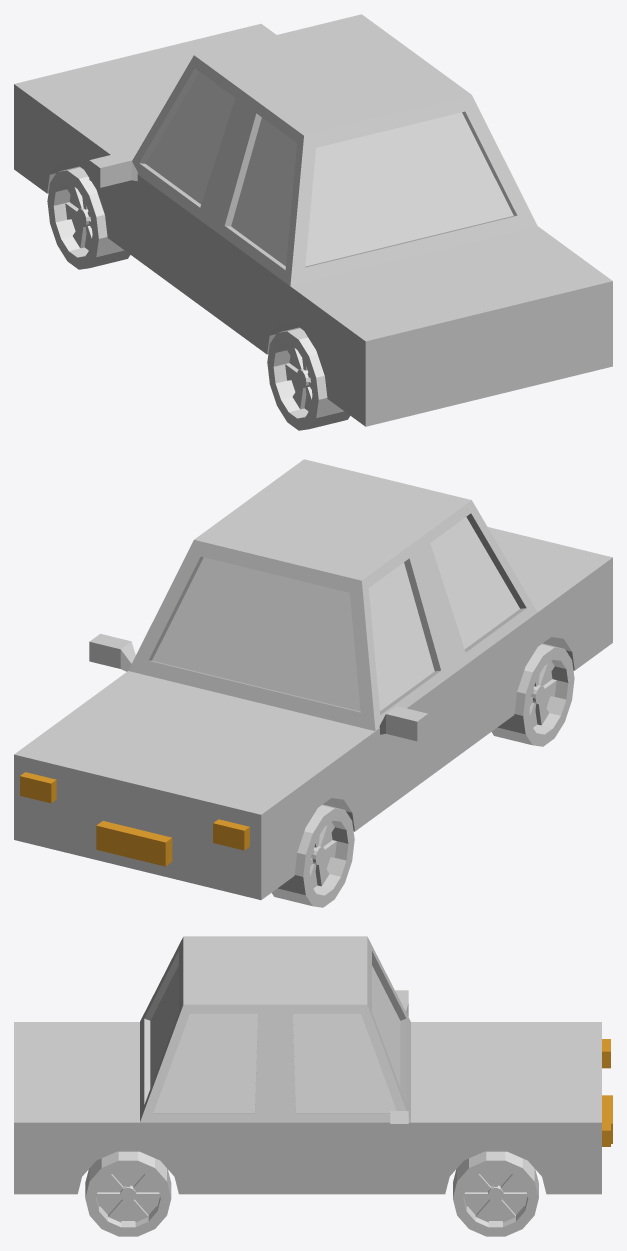
Rendered from lego_car.fbx.
The picture shows the model from 3 angles, top to bottom: view 1: azimuth 30°, elevation 25°; view 2: azimuth 150°, elevation 25°; view 3: azimuth 270°, elevation 25°; orthographic projection. The views are drawn at different scales.
Parts seen in each view (by area): view 1: Gova, bottom_left, top_left; view 2: Gova, top_left, bottom_left; view 3: Gova, bottom_right, top_right.
Part boxes in pixels (x1,y1,x2,y2): Gova: [14, 14, 612, 426]; bottom_left: [267, 327, 350, 430]; top_left: [47, 166, 130, 269]; Gova: [14, 459, 612, 899]; top_left: [272, 804, 354, 907]; bottom_left: [491, 643, 574, 746]; Gova: [14, 936, 612, 1194]; bottom_right: [85, 1151, 171, 1236]; top_right: [453, 1151, 538, 1236].
Size of the model in its own units: 1.19 by 2.26 by 0.89.
